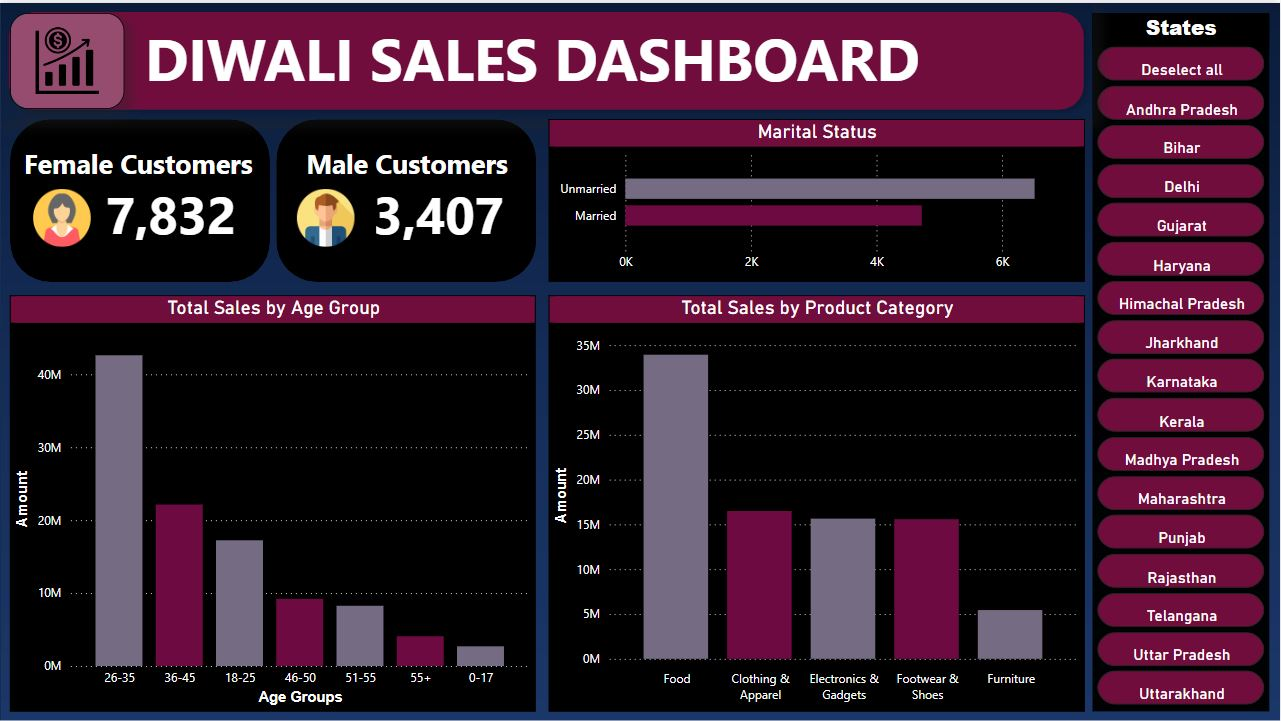

The dashboard page shown, as its layout file describes it:
{"tool":"powerbi","page":{"name":"Dashboard","canvas":[1280,720],"ordinal":0},"visuals":[{"type":"shape","box":[10,115.7,260,162.9],"z":0},{"type":"clusteredColumnChart","title":"Total Sales by Age Group","fields":{"Category":["Diwali Sales Data (1).Age Group"],"Y":["Sum(Diwali Sales Data (1).Amount)"]},"box":[10,292.9,525.7,415.7],"z":1000},{"type":"shape","box":[275.7,115.7,260,162.9],"z":2000},{"type":"advancedSlicerVisual","title":"States","fields":{"Values":["Diwali Sales Data.State"]},"box":[1092.9,10,177.1,698.6],"z":3000},{"type":"cardVisual","fields":{"Data":["Diwali Sales Data.TotalFemaleCustomers"]},"box":[88.6,130,234.3,152.9],"z":4000},{"type":"textbox","box":[295.7,137.1,221.4,77.1],"z":5000},{"type":"textbox","box":[18.6,137.1,264.3,77.1],"z":6000},{"type":"cardVisual","fields":{"Data":["Diwali Sales Data.Total Male Customers"]},"box":[355.7,131.4,234.3,151.4],"z":7000},{"type":"shape","box":[0,0,1092.9,115.7],"z":8000},{"type":"textbox","box":[140,10,877.1,127.1],"z":9000},{"type":"image","box":[10,10,114.3,95.7],"z":10000},{"type":"clusteredColumnChart","title":"Total Sales by Product Category","fields":{"Y":["Sum(Diwali Sales Data (1).Amount)"],"Category":["Diwali Sales Data.Product_Category"]},"box":[548.6,292.9,535.7,415.7],"z":11000},{"type":"image","box":[282.9,181.4,85.7,67.1],"z":12000},{"type":"image","box":[18.6,181.4,85.7,67.1],"z":13000},{"type":"clusteredBarChart","title":"Marital Status","fields":{"Category":["Diwali Sales Data.Marital Status"],"Y":["CountNonNull(Diwali Sales Data.Gender)"]},"box":[548.6,115.7,535.7,162],"z":14000}]}

Visuals, with their boxes in screenshot pixels (x1, y1, x2, y2), scaled from the page's 1280x720 canvas onto the 1281x721 screenshot:
shape: x1=10 y1=116 x2=270 y2=279
"Total Sales by Age Group" clusteredColumnChart: x1=10 y1=293 x2=536 y2=710
shape: x1=276 y1=116 x2=536 y2=279
"States" advancedSlicerVisual: x1=1094 y1=10 x2=1271 y2=710
cardVisual - Diwali Sales Data.TotalFemaleCustomers: x1=89 y1=130 x2=323 y2=283
textbox: x1=296 y1=137 x2=518 y2=214
textbox: x1=19 y1=137 x2=283 y2=214
cardVisual - Diwali Sales Data.Total Male Customers: x1=356 y1=132 x2=590 y2=283
shape: x1=0 y1=0 x2=1094 y2=116
textbox: x1=140 y1=10 x2=1018 y2=137
image: x1=10 y1=10 x2=124 y2=106
"Total Sales by Product Category" clusteredColumnChart: x1=549 y1=293 x2=1085 y2=710
image: x1=283 y1=182 x2=369 y2=249
image: x1=19 y1=182 x2=104 y2=249
"Marital Status" clusteredBarChart: x1=549 y1=116 x2=1085 y2=278
